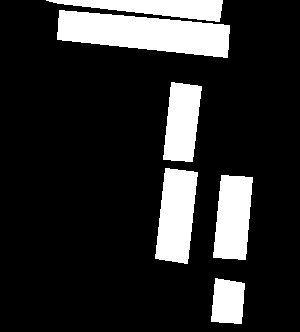parkingspot: (57, 10, 229, 57), (155, 168, 197, 263), (46, 0, 222, 21), (213, 175, 252, 259), (163, 82, 201, 161), (211, 278, 244, 323)
